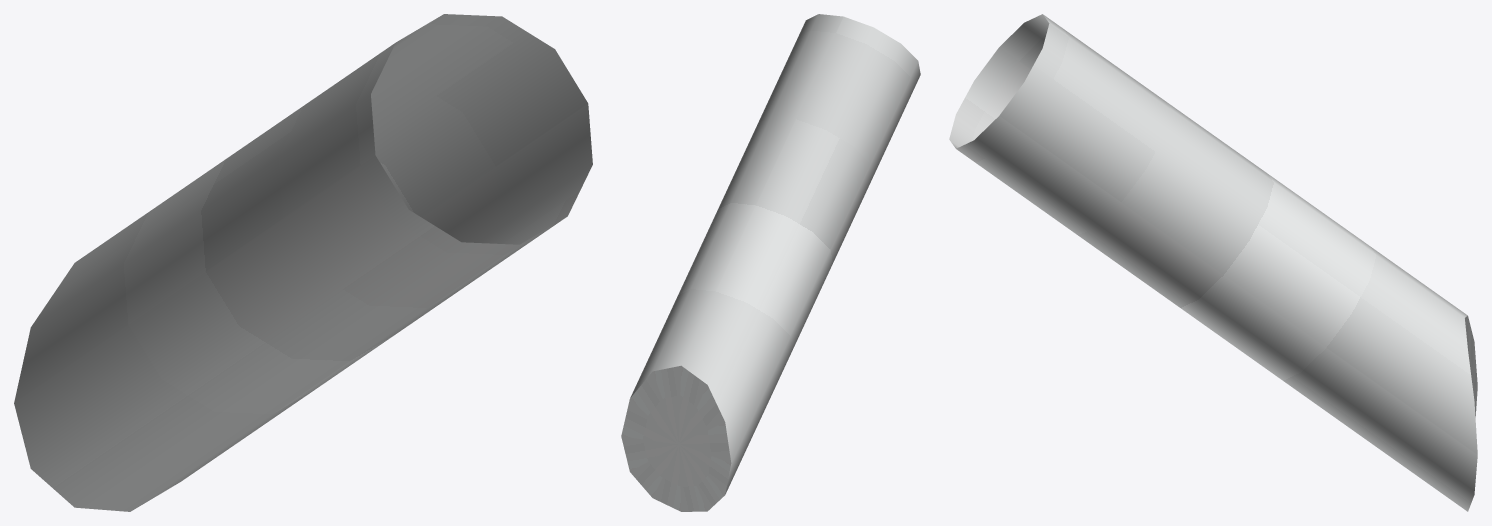
File: luminairearm_truss10ftdouble_c9_thin.obj
3 views of the same model, side by side, from view 1: azimuth 30°, elevation 25°; view 2: azimuth 150°, elevation 25°; view 3: azimuth 270°, elevation 25° (orthographic). The views are drawn at different scales.
Parts seen in each view (by area): view 1: luminairearm_truss10ftdouble_c9_thin; view 2: luminairearm_truss10ftdouble_c9_thin; view 3: luminairearm_truss10ftdouble_c9_thin.
Part boxes in pixels (x1=…): luminairearm_truss10ftdouble_c9_thin: x1=14, y1=14, x2=592, y2=511; luminairearm_truss10ftdouble_c9_thin: x1=621, y1=14, x2=920, y2=511; luminairearm_truss10ftdouble_c9_thin: x1=949, y1=14, x2=1477, y2=511.
Size of the model in its own units: 0.1562 by 0.5106 by 0.5079.
